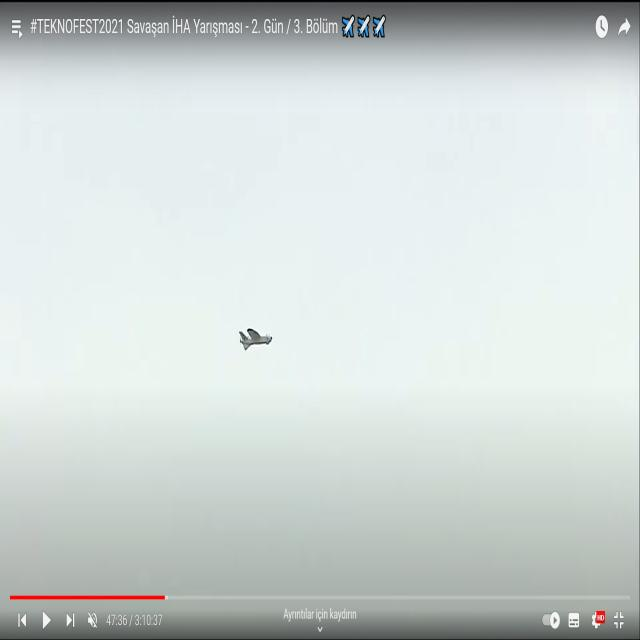iha: (238, 326, 274, 352)
